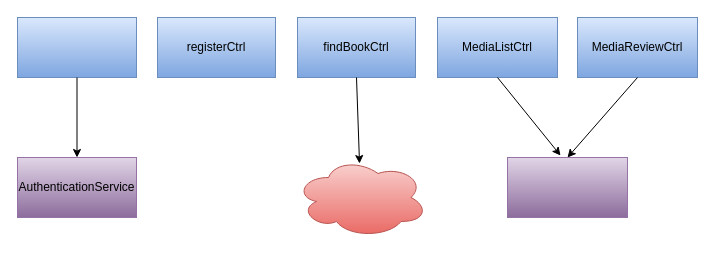
This 715x255 diagram has some shape labels left out. The shapes that lost their labels are listed below. From the top down, each one's box as (x1, y1, x2, y2) in pixels, then its label:
(16, 16, 136, 78): LoginCtrl
(294, 156, 428, 238): googleapi book
(506, 156, 628, 218): MediaService
